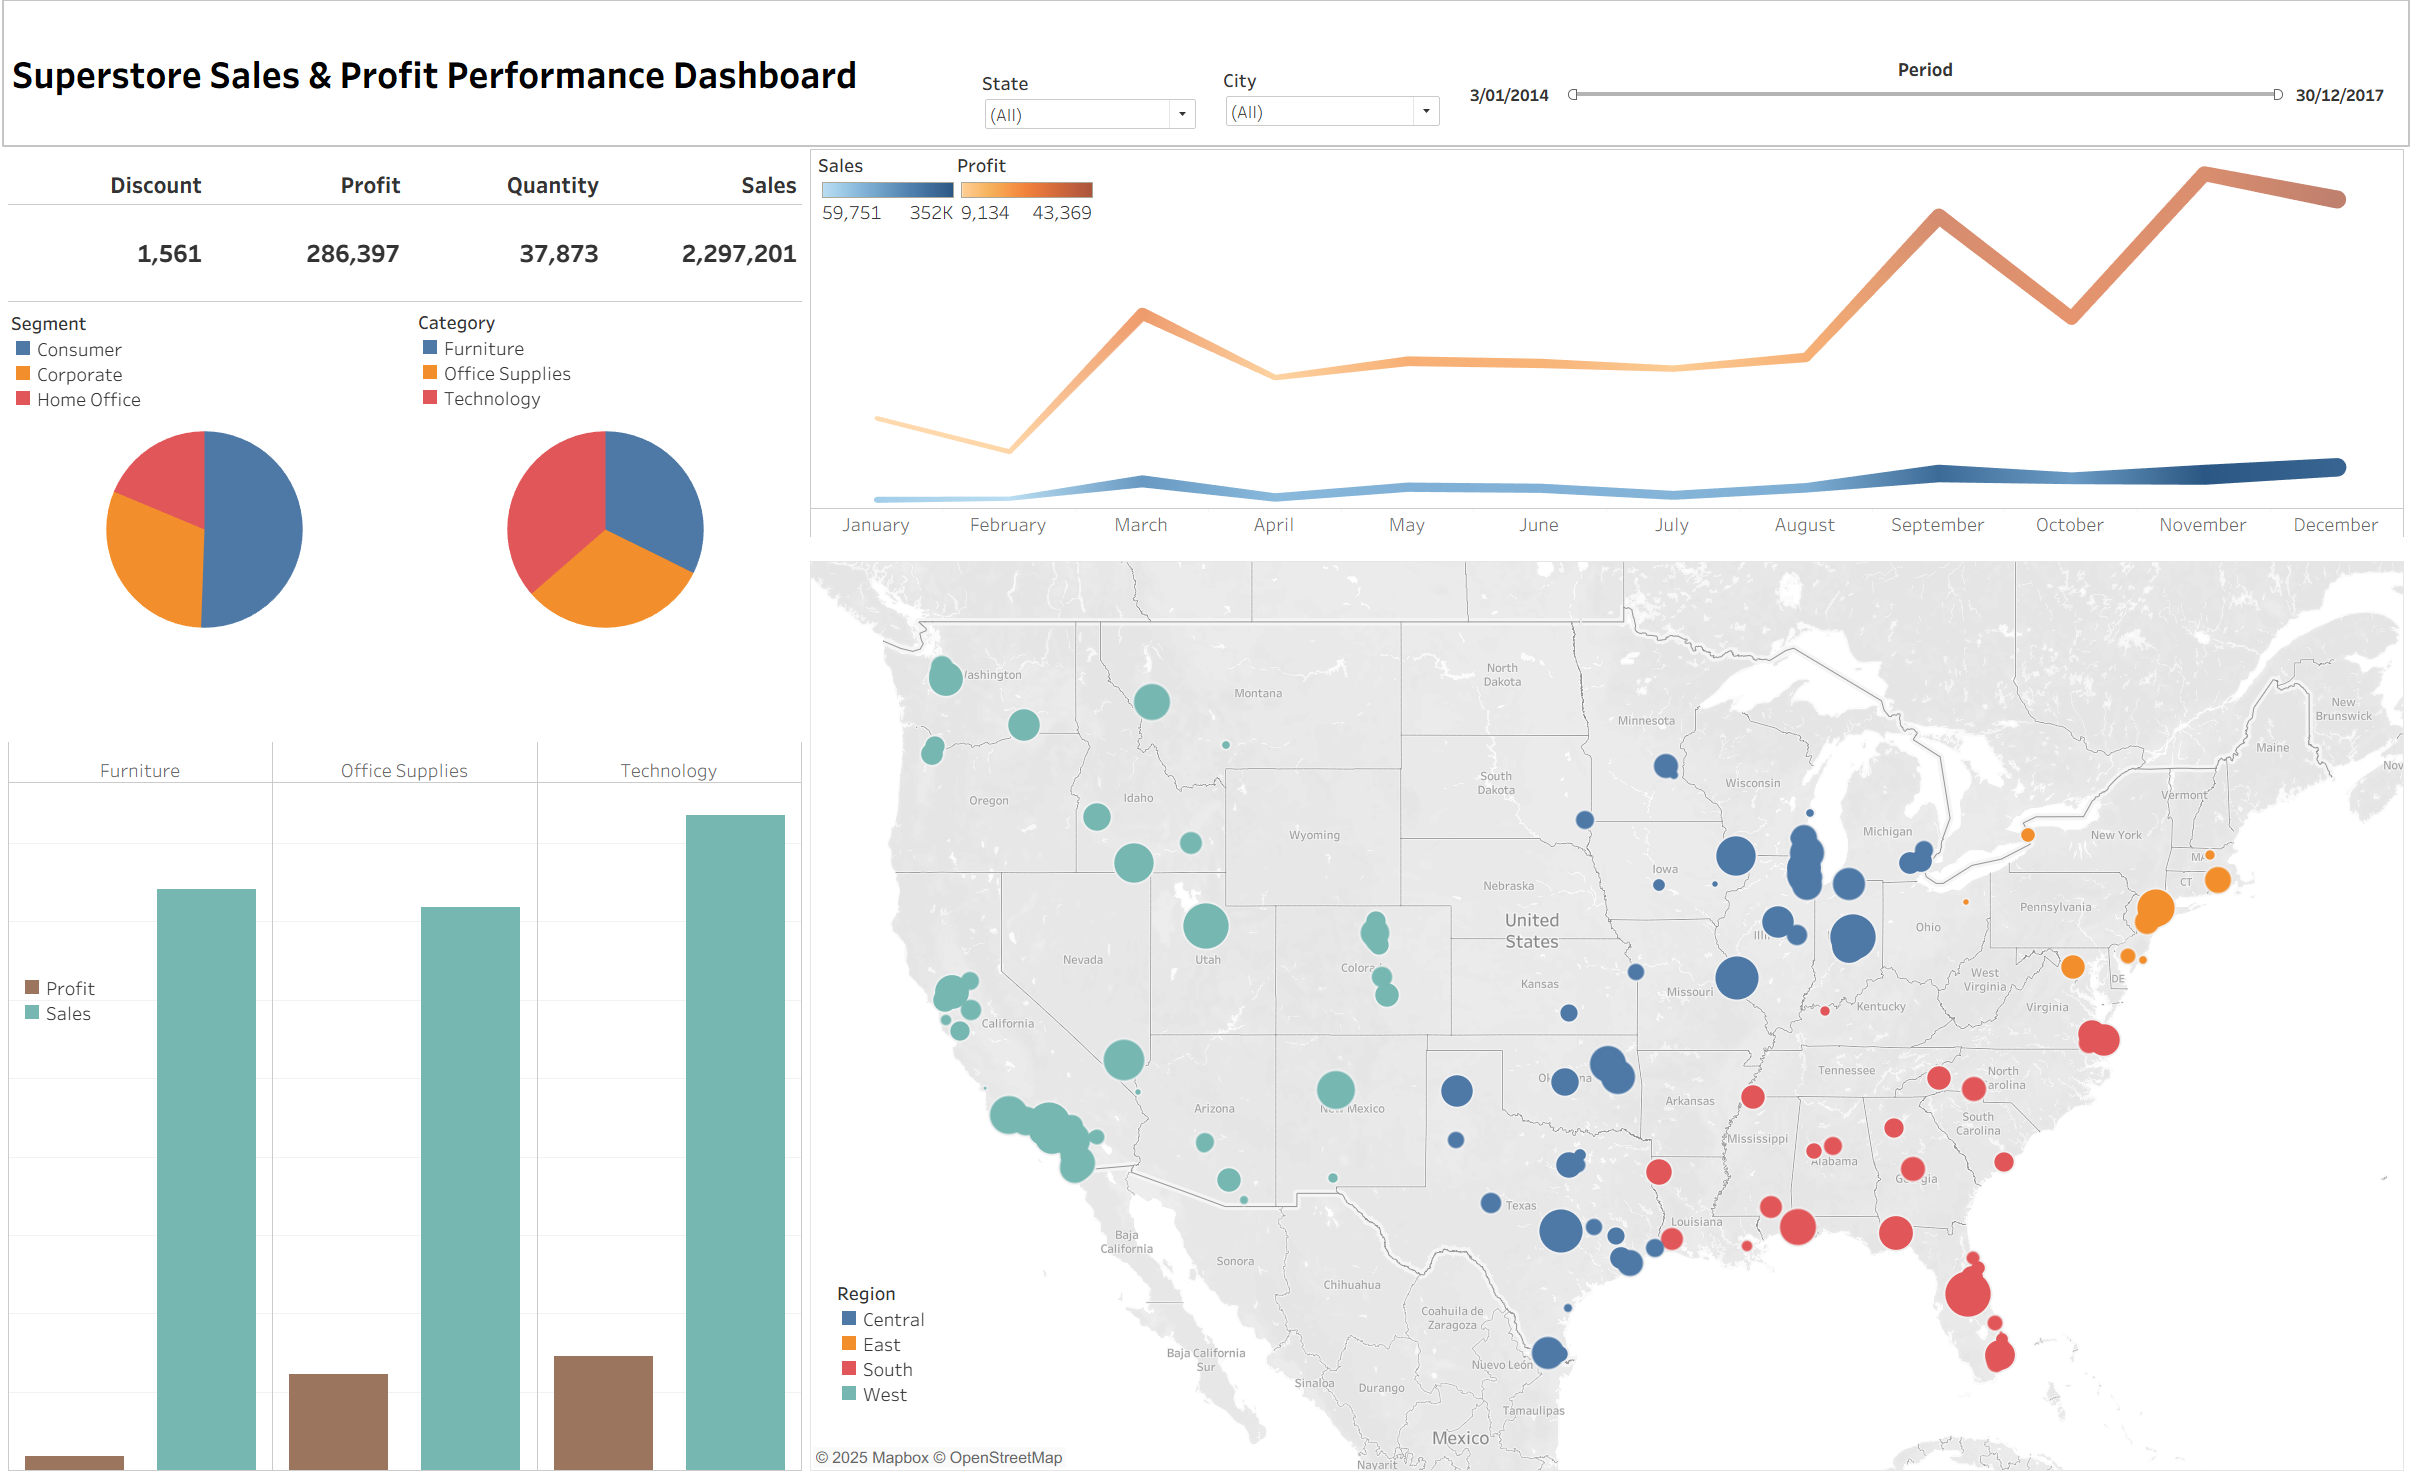

This screenshot's page, from the dashboard's own definition file:
{"tool":"tableau","page":{"name":"Superstore","canvas":[1000,1000],"units":"permille","ordinal":0},"visuals":[{"type":"text","box":[3.3,5.4,993.4,96.6]},{"type":"filter","title":"KPIs","param":"[federated.04eqscu1n0epxf13y25ff0nnvqyl].[none:Order Date:qk]","box":[602.9,42.3,388.8,51.7]},{"type":"filter","title":"Region vs sales ","param":"[federated.04eqscu1n0epxf13y25ff0nnvqyl].[none:City:nk]","box":[507,49.7,90.9,41.6]},{"type":"filter","title":"Region vs sales ","param":"[federated.04eqscu1n0epxf13y25ff0nnvqyl].[none:State:nk]","box":[407.4,51.7,89.7,41.6]},{"type":"worksheet","title":"KPIs","mark":"Automatic","box":[3.3,102,331.5,108.1]},{"type":"worksheet","title":"Monthly Trend ","mark":"Automatic","rows":["Sales","Profit"],"cols":["Order Date"],"box":[334.9,102,661.8,266.4]},{"type":"legend","title":"Monthly Trend ","param":"[federated.04eqscu1n0epxf13y25ff0nnvqyl].[sum:Sales:qk]","box":[339.7,106.7,57.9,67.1]},{"type":"legend","title":"Monthly Trend ","param":"[federated.04eqscu1n0epxf13y25ff0nnvqyl].[sum:Profit:qk]","box":[397.1,106.7,57.9,67.1]},{"type":"worksheet","title":"Segment Sale","mark":"Pie","box":[3.3,210.1,165.8,289.9]},{"type":"worksheet","title":"Category","mark":"Pie","box":[169.1,210.1,165.8,289.9]},{"type":"legend","title":"Category","param":"[federated.04eqscu1n0epxf13y25ff0nnvqyl].[none:Category:nk]","box":[174.4,212.1,65.7,67.8]},{"type":"legend","title":"Segment Sale","param":"[federated.04eqscu1n0epxf13y25ff0nnvqyl].[none:Segment:nk]","box":[6.2,212.8,57.9,67.8]},{"type":"worksheet","title":"Region vs sales ","mark":"Automatic","box":[334.9,368.4,661.8,626.2]},{"type":"worksheet","title":"Sales and profit by category","mark":"Automatic","cols":["Category"],"box":[3.3,500,331.5,494.6]},{"type":"legend","title":"Sales and profit by category","param":"[federated.04eqscu1n0epxf13y25ff0nnvqyl].[:Measure Names]","box":[9.9,641.6,57.9,55.7]},{"type":"legend","title":"Region vs sales ","param":"[federated.04eqscu1n0epxf13y25ff0nnvqyl].[none:Region:nk]","box":[347.5,863.8,57.9,84.6]}]}

Visuals, with their boxes on the dashboard's canvas, which has no fixed pixel size, in thousandths of its width and height (x1, y1, x2, y2). These are canvas units, not pixel positions in the 2415x1476 screenshot, which may show the page scaled, cropped or inside an application window:
text: rect(3, 5, 997, 102)
"KPIs" filter: rect(603, 42, 992, 94)
"Region vs sales " filter: rect(507, 50, 598, 91)
"Region vs sales " filter: rect(407, 52, 497, 93)
"KPIs" worksheet: rect(3, 102, 335, 210)
"Monthly Trend " worksheet: rect(335, 102, 997, 368)
"Monthly Trend " legend: rect(340, 107, 398, 174)
"Monthly Trend " legend: rect(397, 107, 455, 174)
"Segment Sale" worksheet (Pie marks): rect(3, 210, 169, 500)
"Category" worksheet (Pie marks): rect(169, 210, 335, 500)
"Category" legend: rect(174, 212, 240, 280)
"Segment Sale" legend: rect(6, 213, 64, 281)
"Region vs sales " worksheet: rect(335, 368, 997, 995)
"Sales and profit by category" worksheet: rect(3, 500, 335, 995)
"Sales and profit by category" legend: rect(10, 642, 68, 697)
"Region vs sales " legend: rect(348, 864, 405, 948)
